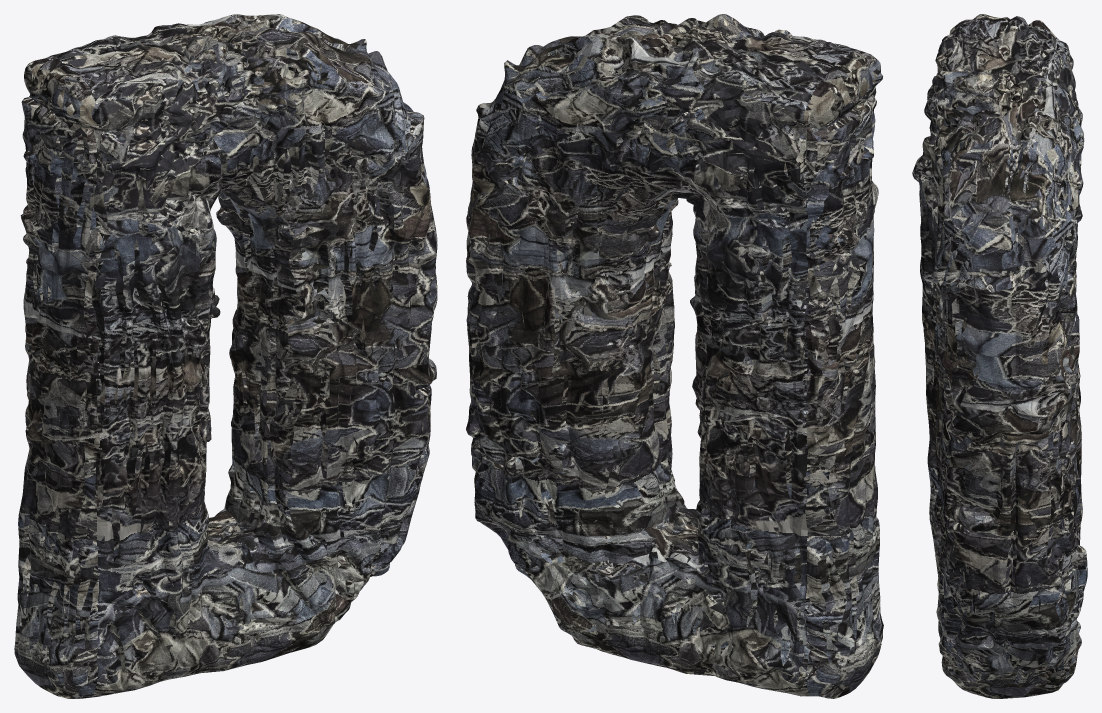
File: blender_test.glb
3 views of the same model, side by side, from view 1: azimuth 30°, elevation 25°; view 2: azimuth 150°, elevation 25°; view 3: azimuth 270°, elevation 25° (orthographic). The views are drawn at different scales.
Parts seen in each view (by area): view 1: demo_textured.obj; view 2: demo_textured.obj; view 3: demo_textured.obj.
Boxes of the visible parts, x1,y1,x2,y2 form: demo_textured.obj: (14,14,437,698); demo_textured.obj: (466,14,883,698); demo_textured.obj: (912,14,1087,698).
Bounding box in the file's own units: 1.12 × 1.69 × 0.4654.
1 material, 1 textured.
